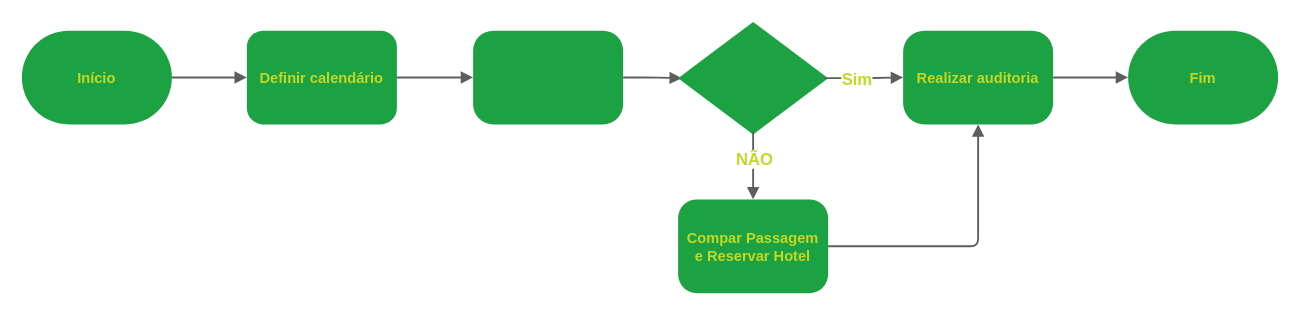
Image size: 1300x315. Some labels were removed from this diagram. Here are the shapes that lost their labels. From the top down, the centre of each, then its label:
the point at 547,77: Realizar agendamentos
the point at 752,77: Presencial em BH?
